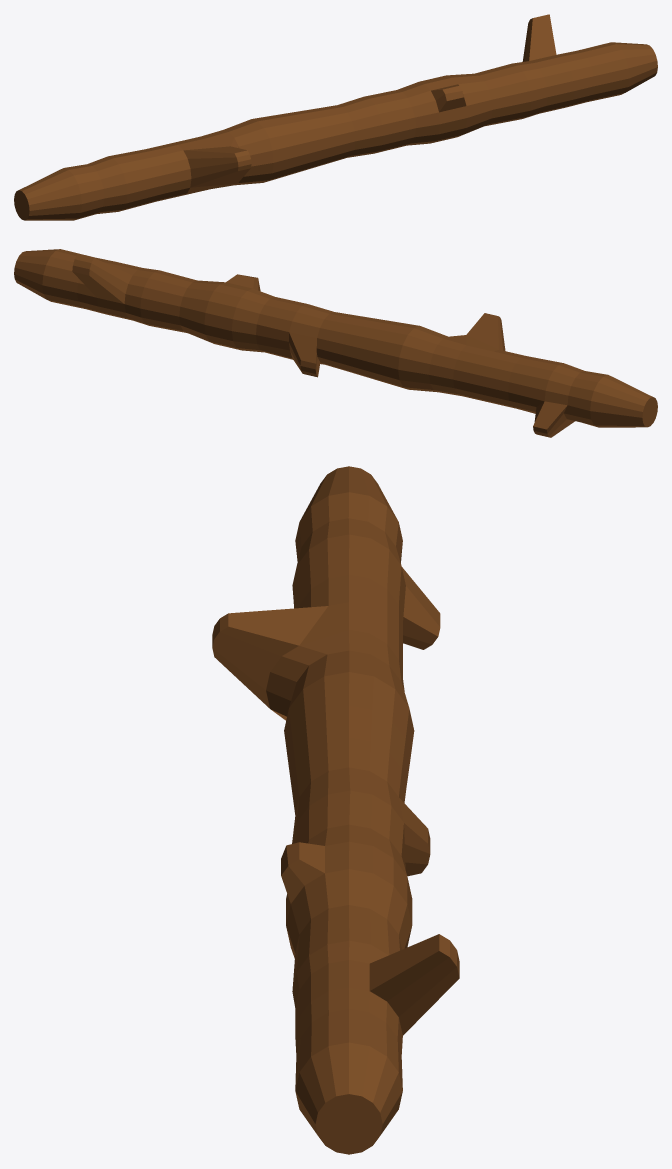
Rendered from Stick.fbx.
The picture shows the model from 3 angles, top to bottom: view 1: azimuth 30°, elevation 25°; view 2: azimuth 150°, elevation 25°; view 3: azimuth 270°, elevation 25°; orthographic projection. The views are drawn at different scales.
Parts seen in each view (by area): view 1: Cylinder.004; view 2: Cylinder.004; view 3: Cylinder.004.
Boxes of the visible parts, bbox=[...] form: Cylinder.004: bbox=[14, 14, 657, 220]; Cylinder.004: bbox=[14, 249, 657, 437]; Cylinder.004: bbox=[212, 466, 459, 1154].
Size of the model in its own units: 177 by 20.27 by 30.25.
